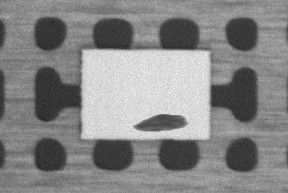DIE_INK: (133, 113, 187, 133)
